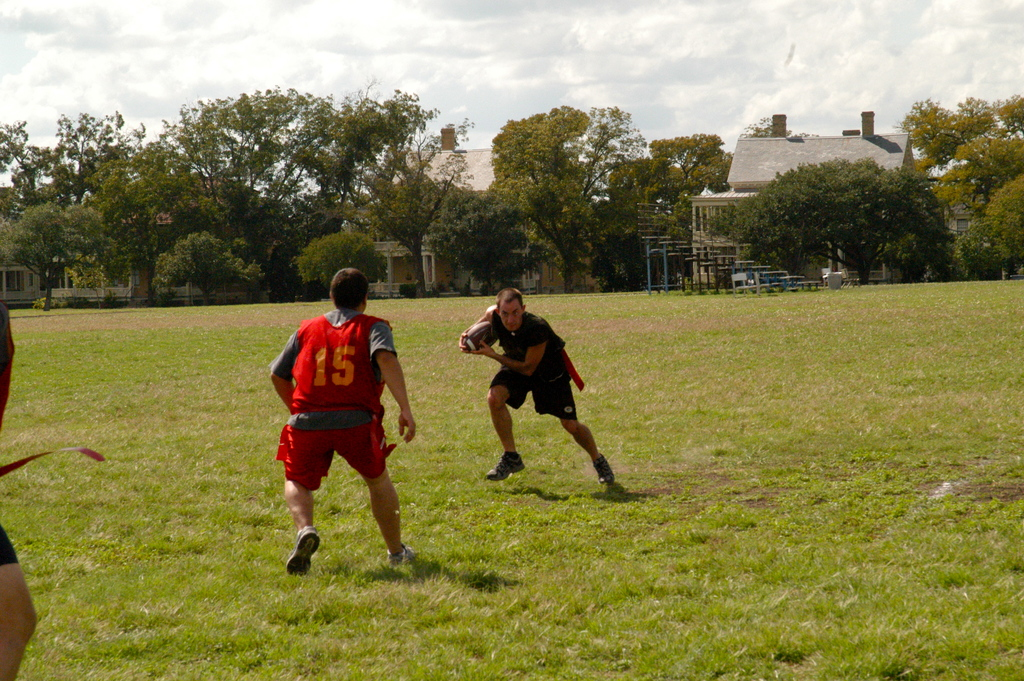Ball: (466, 322, 499, 350)
